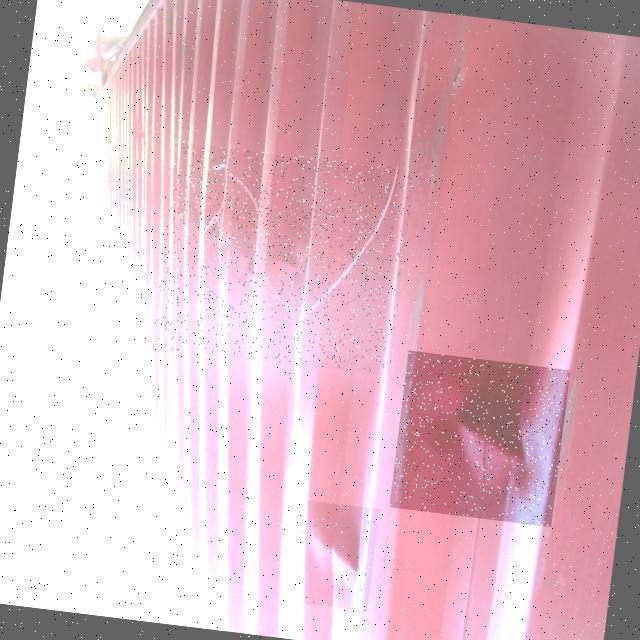dent: (152, 141, 416, 377), (390, 351, 571, 528), (289, 500, 381, 612)
